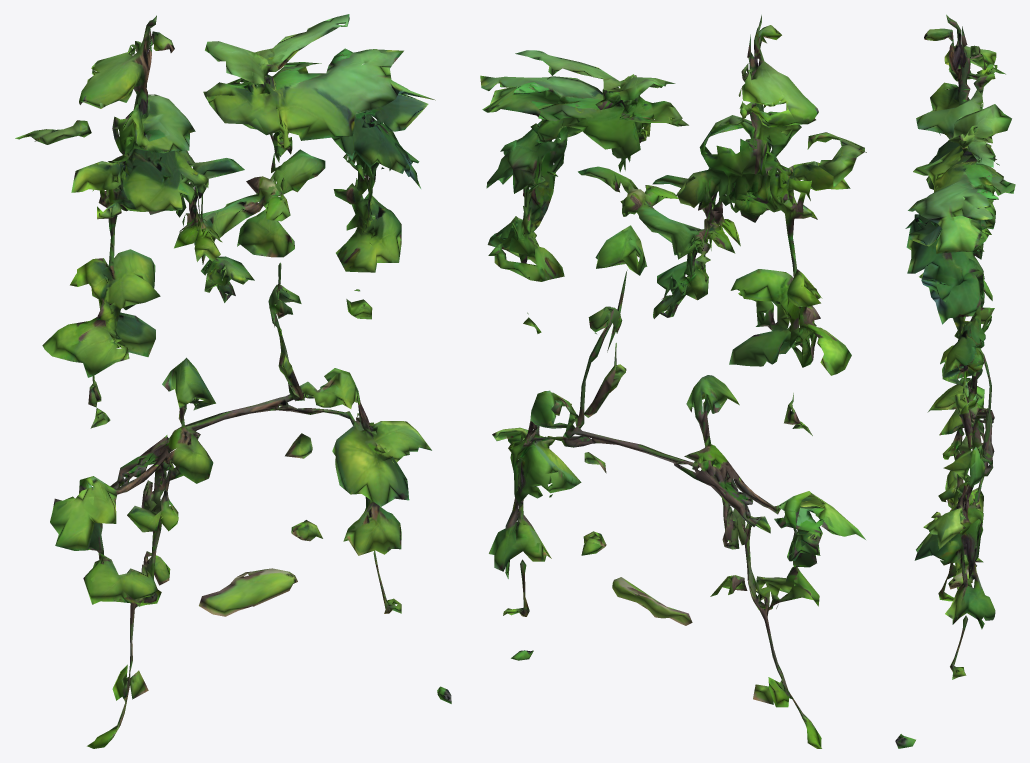
File: observation-vine.glb
3 renders of one model, left to right at view 1: azimuth 30°, elevation 25°; view 2: azimuth 150°, elevation 25°; view 3: azimuth 270°, elevation 25°, orthographic. The views are drawn at different scales.
Bounding box in the file's own units: 1.05 × 1.89 × 0.3312.
Materials: 1 (1 with a texture image).
